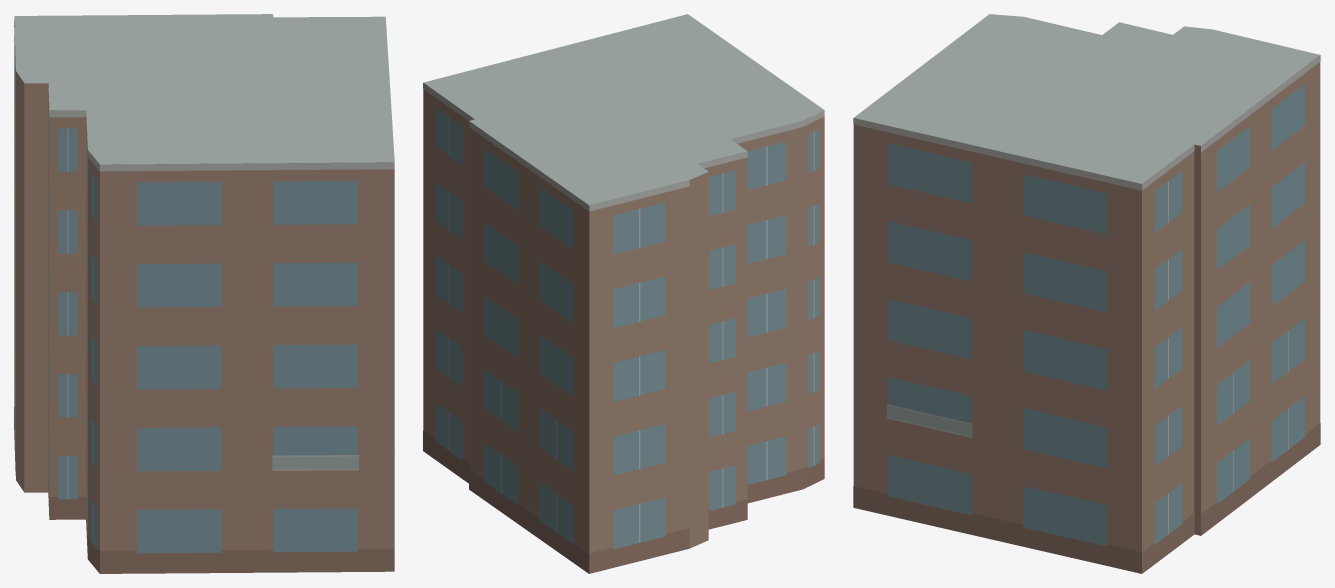
File: survey-upis-33020803.glb
The picture shows the model from 3 angles, left to right: view 1: azimuth 30°, elevation 25°; view 2: azimuth 150°, elevation 25°; view 3: azimuth 270°, elevation 25°; orthographic projection. The views are drawn at different scales.
Visible parts, largest first — view 1: survey-upis-33020803.tmp; view 2: survey-upis-33020803.tmp; view 3: survey-upis-33020803.tmp.
Boxes of the visible parts, box(x1,y1,x2,y2) form: survey-upis-33020803.tmp: box(14, 14, 394, 573); survey-upis-33020803.tmp: box(423, 14, 824, 573); survey-upis-33020803.tmp: box(853, 14, 1320, 573).
Size of the model in its own units: 13.48 by 14.4 by 15.64.
